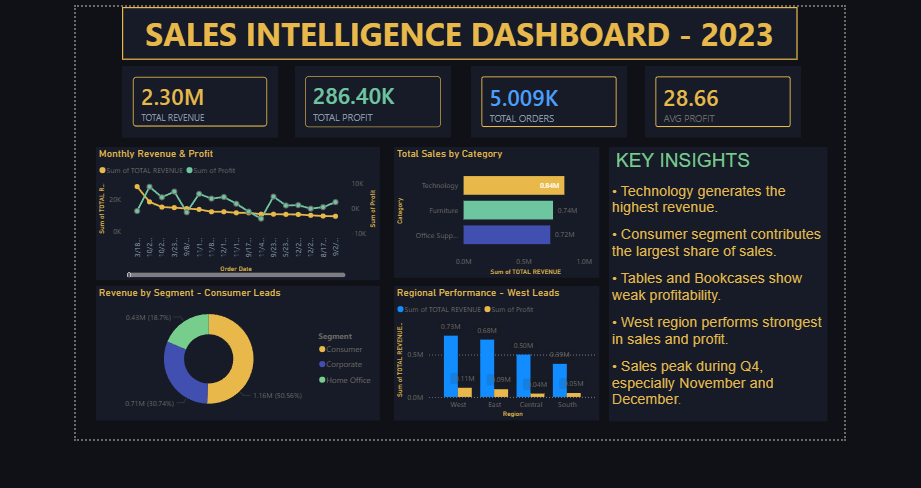

Layout of this report page (visuals, bound fields, positions):
{"tool":"powerbi","page":{"name":"Page 1","canvas":[1280,720],"ordinal":0},"visuals":[{"type":"clusteredBarChart","title":"Total Sales by Category","fields":{"Y":["Sum(Sample - Superstore.Sales)"],"Category":["Sample - Superstore.Category"]},"box":[529.8,232.7,342.4,218],"z":1},{"type":"lineChart","title":"Monthly Revenue & Profit ","fields":{"Category":["Sample - Superstore.Order Date"],"Y2":["Sum(Sample - Superstore.Profit)"],"Y":["Sum(Sample - Superstore.TOTAL REVENUE)"]},"box":[33.7,232.7,472.7,222.4],"z":3},{"type":"textbox","box":[77.1,0,1125.8,88.1],"z":6},{"type":"cardVisual","title":"Total Sales","fields":{"Data":["Sum(Sample - Superstore.Sales)"]},"box":[77.3,99.1,260.4,119.3],"z":7},{"type":"cardVisual","title":"Total Profit","fields":{"Data":["Sum(Sample - Superstore.Profit)"]},"box":[364.5,99.1,260.4,119.3],"z":8},{"type":"cardVisual","title":"Total Orders","fields":{"Data":["Count(Sample - Superstore.Order ID)"]},"box":[658.5,99.1,260.4,119.3],"z":9},{"type":"cardVisual","fields":{"Data":["Avg(Sample - Superstore.Profit)"]},"box":[949.1,99.1,260.4,119.3],"z":10},{"type":"donutChart","title":"Revenue by Segment - Consumer Leads","fields":{"Category":["Sample - Superstore.Segment"],"Y":["Sum(Sample - Superstore.TOTAL REVENUE)"]},"box":[33.7,465.4,472.7,223.9],"z":11},{"type":"clusteredColumnChart","title":"Regional Performance - West Leads","fields":{"Category":["Sample - Superstore.Region"],"Y":["Sum(Sample - Superstore.TOTAL REVENUE)","Sum(Sample - Superstore.Profit)"]},"box":[529.8,465.4,342.4,223.9],"z":12},{"type":"textbox","box":[888.3,232.7,364.4,456.6],"z":13}]}

Visuals, with their boxes on the page's 1280x720 design canvas (x1, y1, x2, y2). These are canvas units, not pixel positions in the 921x488 screenshot, which may show the page scaled, cropped or inside an application window:
"Total Sales by Category" clusteredBarChart: (530, 233, 872, 451)
"Monthly Revenue & Profit " lineChart: (34, 233, 506, 455)
textbox: (77, 0, 1203, 88)
"Total Sales" cardVisual: (77, 99, 338, 218)
"Total Profit" cardVisual: (364, 99, 625, 218)
"Total Orders" cardVisual: (658, 99, 919, 218)
cardVisual - Avg(Sample - Superstore.Profit): (949, 99, 1210, 218)
"Revenue by Segment - Consumer Leads" donutChart: (34, 465, 506, 689)
"Regional Performance - West Leads" clusteredColumnChart: (530, 465, 872, 689)
textbox: (888, 233, 1253, 689)
